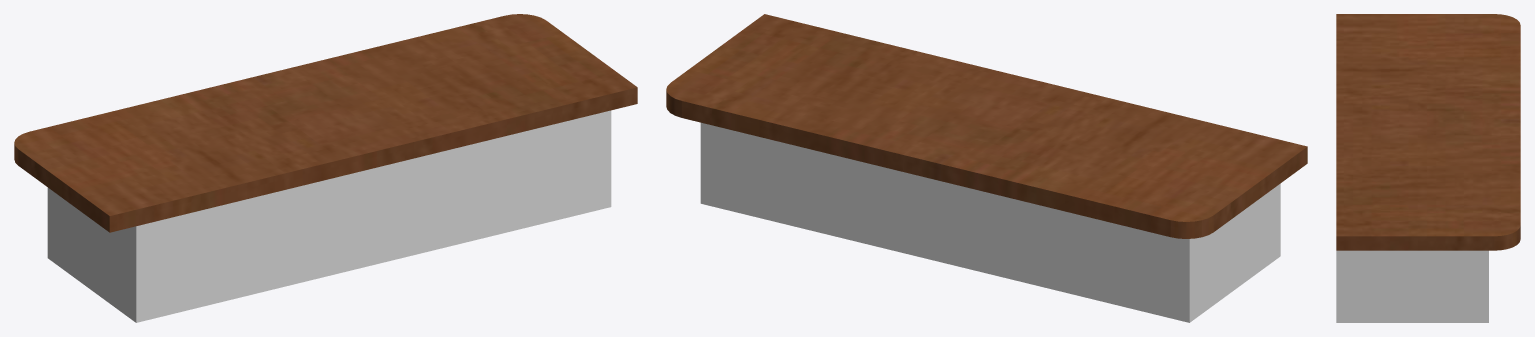
File: FirstStep.glb
3 renders of one model, left to right at view 1: azimuth 30°, elevation 25°; view 2: azimuth 150°, elevation 25°; view 3: azimuth 270°, elevation 25°, orthographic. The views are drawn at different scales.
Parts seen in each view (by area): view 1: 3DGeom-2, 3DGeom-1; view 2: 3DGeom-2, 3DGeom-1; view 3: 3DGeom-2, 3DGeom-1.
Part boxes in pixels (<box>): 3DGeom-2: <box>14,14,637,232</box>; 3DGeom-1: <box>47,110,611,322</box>; 3DGeom-2: <box>666,14,1307,238</box>; 3DGeom-1: <box>700,122,1280,322</box>; 3DGeom-2: <box>1336,14,1520,250</box>; 3DGeom-1: <box>1336,250,1488,322</box>.
Bounding box in the file's own units: 1 × 0.205 × 0.35.
Materials: 2 (1 with a texture image).
